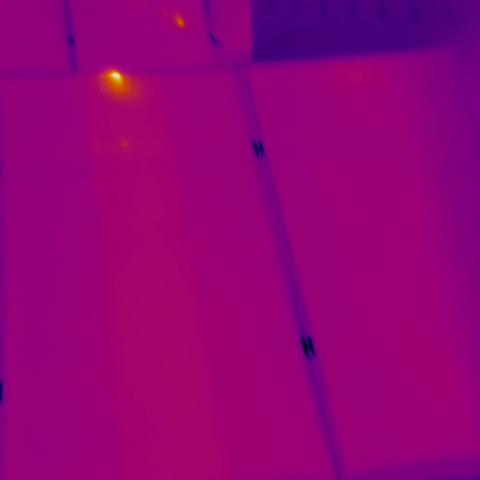fault: (100, 65, 130, 92)
